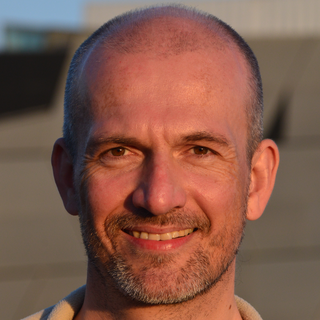eye: (179, 139, 225, 163), (97, 143, 143, 163)
